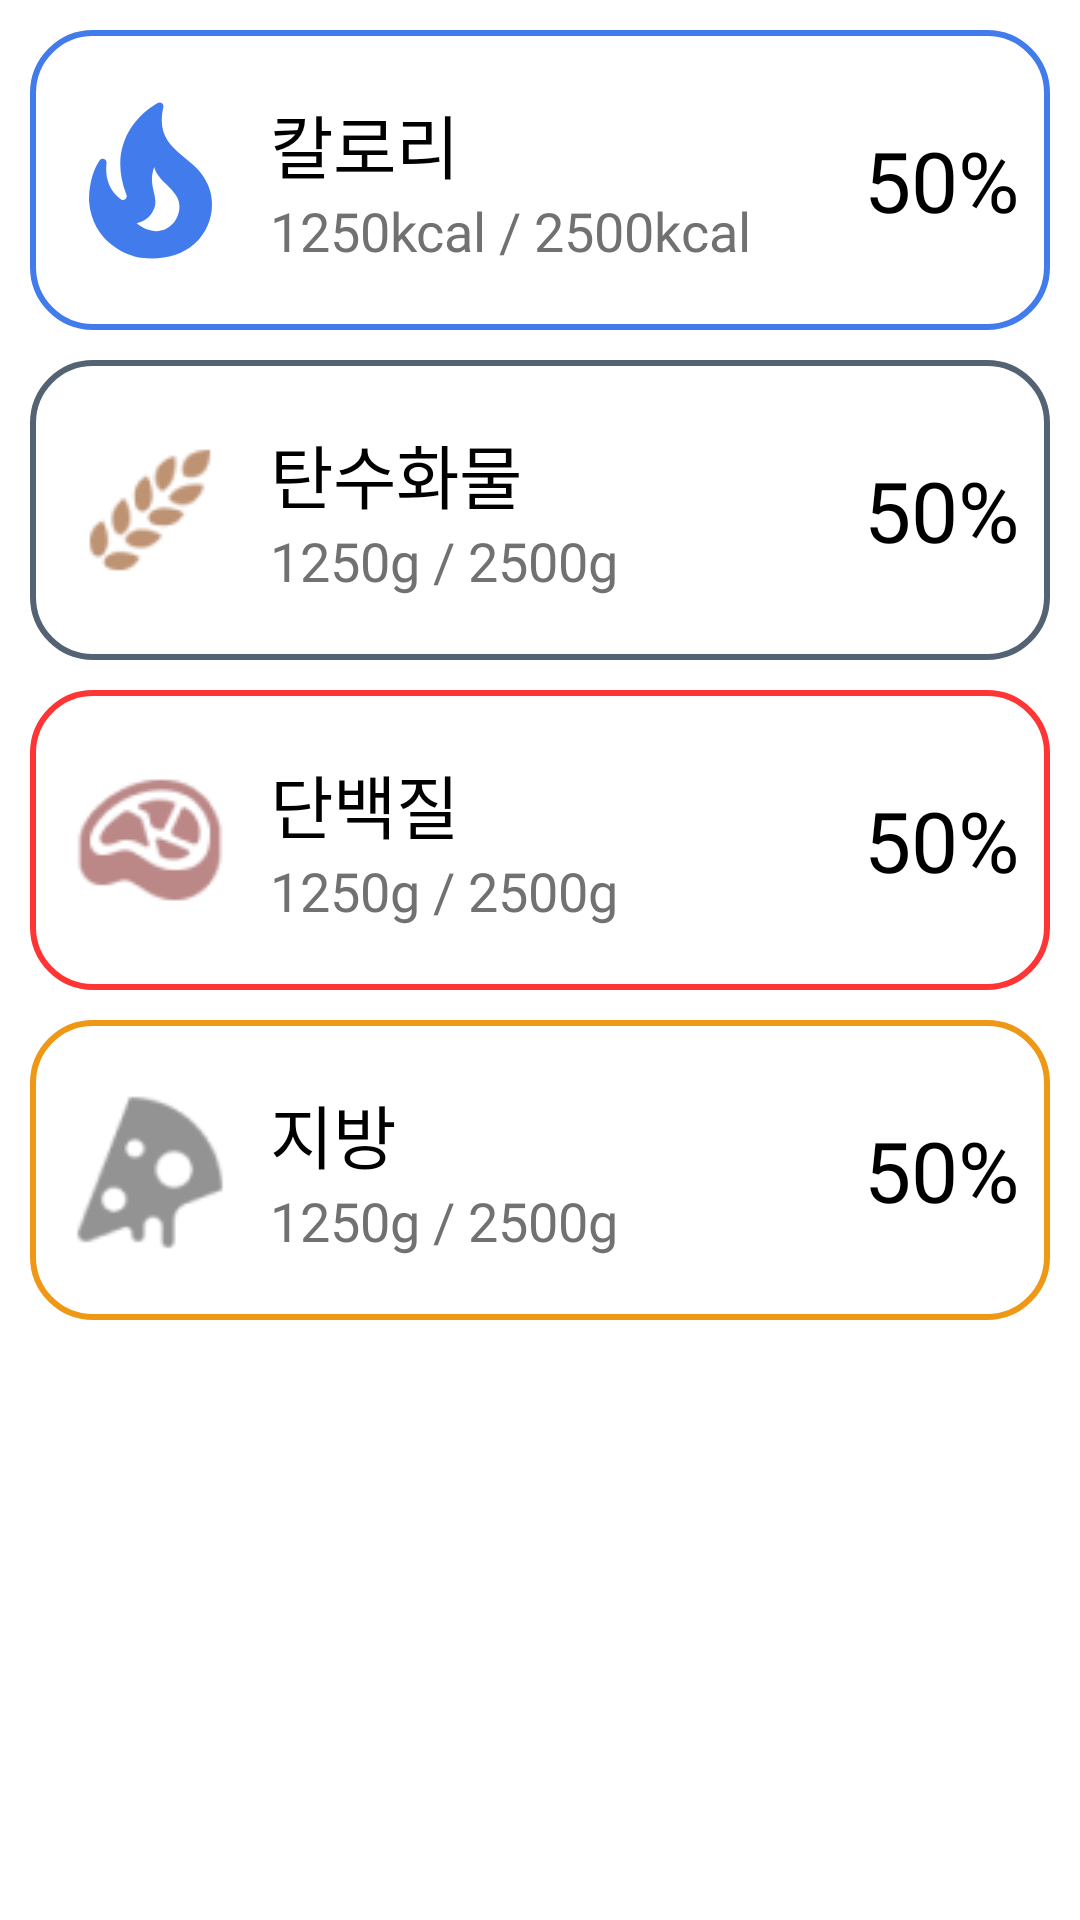

Screen size 1080×1920. Icon name, then its center in pixels as [x,y]:
carbohydrate: [150,510]
protein: [150,840]
